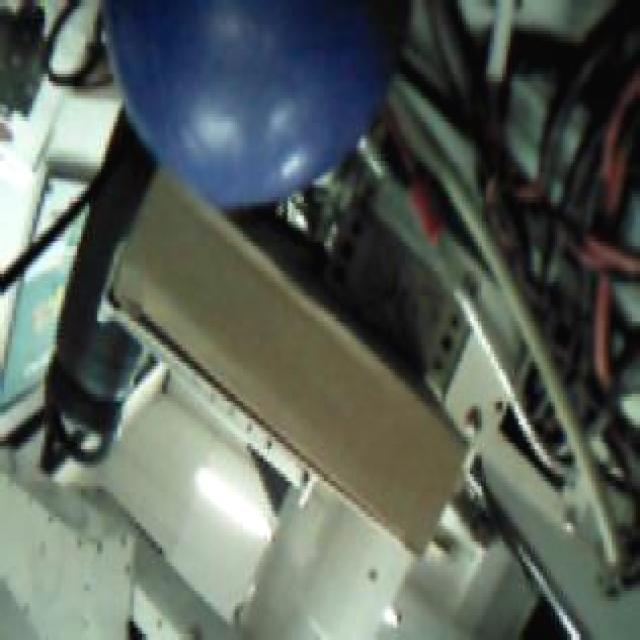BallPurple: (102, 2, 409, 208)
